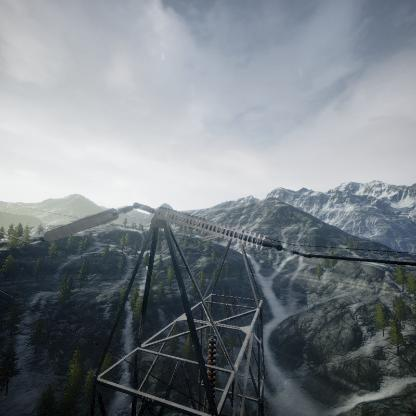insulator: (146, 201, 279, 251), (40, 203, 126, 244), (205, 334, 218, 387)
